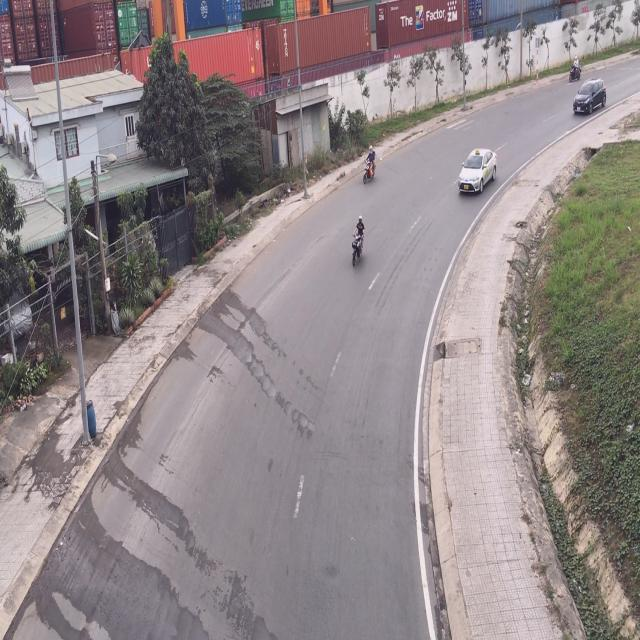car: (455, 148, 495, 198), (573, 79, 607, 118)
motorbike: (349, 216, 366, 271), (362, 145, 377, 187), (568, 55, 581, 84)
